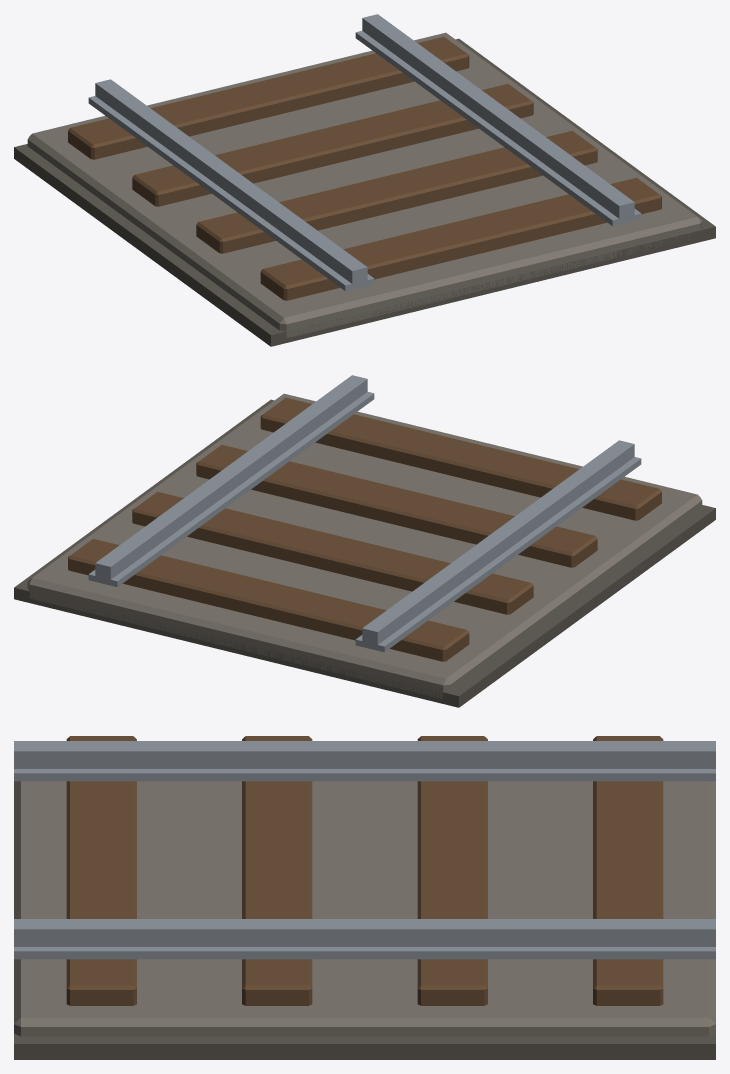
File: rail_droit.glb
The picture shows the model from 3 angles, top to bottom: view 1: azimuth 30°, elevation 25°; view 2: azimuth 150°, elevation 25°; view 3: azimuth 270°, elevation 25°; orthographic projection. The views are drawn at different scales.
Visible parts, largest first — view 1: rail_ballast.004, rail_traverse.006, rail_rail.006, rail_ballast_sombre.002; view 2: rail_ballast.004, rail_traverse.006, rail_rail.006, rail_ballast_sombre.002; view 3: rail_ballast.004, rail_rail.006, rail_traverse.006, rail_ballast_sombre.002.
Part boxes in pixels (x1,y1,x2,y2): rail_ballast.004: [27, 32, 702, 338]; rail_traverse.006: [68, 36, 661, 300]; rail_rail.006: [88, 14, 641, 291]; rail_ballast_sombre.002: [14, 38, 715, 346]; rail_ballast.004: [27, 393, 702, 699]; rail_traverse.006: [68, 397, 661, 661]; rail_rail.006: [88, 375, 641, 652]; rail_ballast_sombre.002: [14, 399, 715, 707]; rail_ballast.004: [14, 781, 715, 1036]; rail_rail.006: [14, 741, 715, 959]; rail_traverse.006: [66, 736, 663, 1005]; rail_ballast_sombre.002: [14, 1034, 715, 1059].
Bounding box in the file's own units: 1 × 0.12 × 1.
